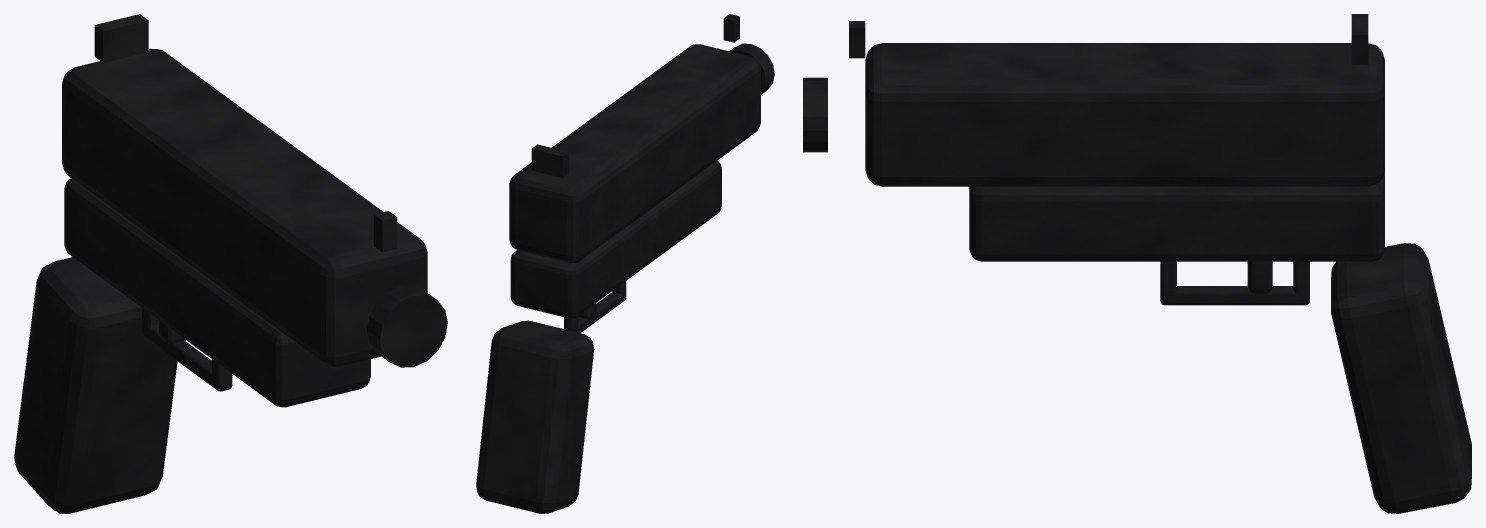
File: PRP_Pistol_Backup.fbx
3 views of the same model, side by side, from view 1: azimuth 30°, elevation 25°; view 2: azimuth 150°, elevation 25°; view 3: azimuth 270°, elevation 25° (orthographic). The views are drawn at different scales.
Parts seen in each view (by area): view 1: Pistol_Body; view 2: Pistol_Body; view 3: Pistol_Body.
Part boxes in pixels (left/top/right/bottom): Pistol_Body: left=14, top=14, right=447, bottom=513; Pistol_Body: left=476, top=14, right=774, bottom=513; Pistol_Body: left=803, top=14, right=1471, bottom=513.
Size of the model in its own units: 3 by 12.48 by 16.09.
